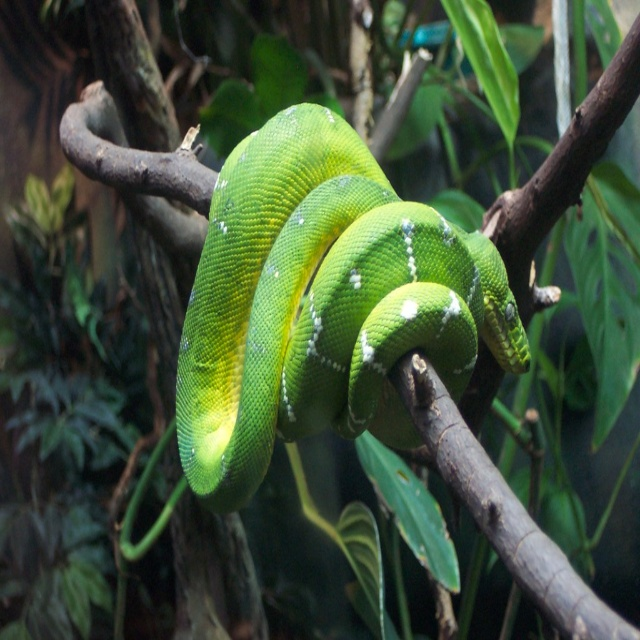Snake: (174, 101, 531, 516), (551, 0, 572, 140)
